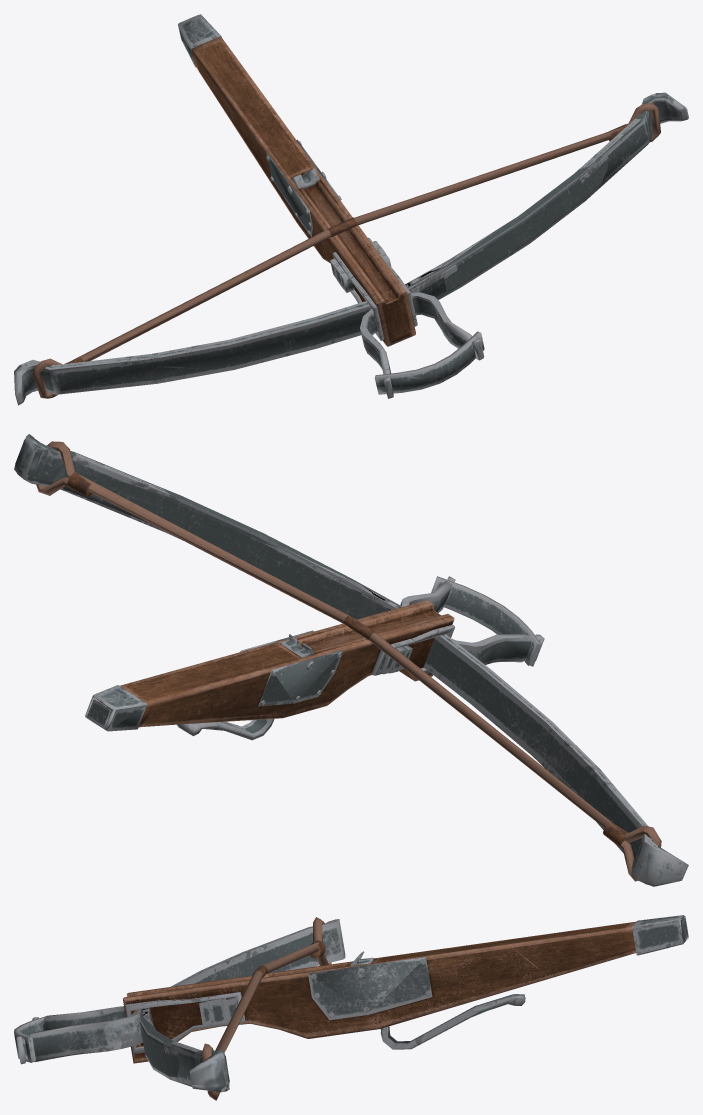
The model's file is w_crossbow.glb.
The picture shows the model from 3 angles, top to bottom: view 1: azimuth 30°, elevation 25°; view 2: azimuth 150°, elevation 25°; view 3: azimuth 270°, elevation 25°; orthographic projection. The views are drawn at different scales.
Parts seen in each view (by area): view 1: defaultMaterial, defaultMaterial.001, defaultMaterial.002; view 2: defaultMaterial, defaultMaterial.001, defaultMaterial.002, defaultMaterial.003; view 3: defaultMaterial, defaultMaterial.001, defaultMaterial.002.
Boxes of the visible parts, bbox=[...] form: defaultMaterial: bbox=[14, 14, 688, 405]; defaultMaterial.001: bbox=[191, 36, 415, 346]; defaultMaterial.002: bbox=[32, 102, 660, 398]; defaultMaterial: bbox=[14, 434, 688, 886]; defaultMaterial.001: bbox=[120, 600, 454, 727]; defaultMaterial.002: bbox=[36, 441, 661, 881]; defaultMaterial.003: bbox=[67, 472, 627, 847]; defaultMaterial: bbox=[14, 915, 688, 1092]; defaultMaterial.001: bbox=[123, 921, 636, 1063]; defaultMaterial.002: bbox=[201, 917, 331, 1100].
Size of the model in its own units: 1.92 by 0.6023 by 1.59.
4 materials, 4 textured.
